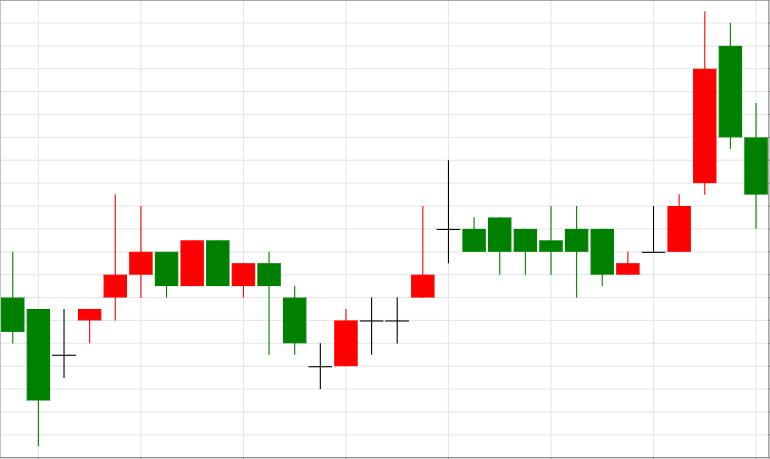morning_star_rise: (206, 241, 358, 389)
shooting_star_fall: (308, 206, 435, 388)
